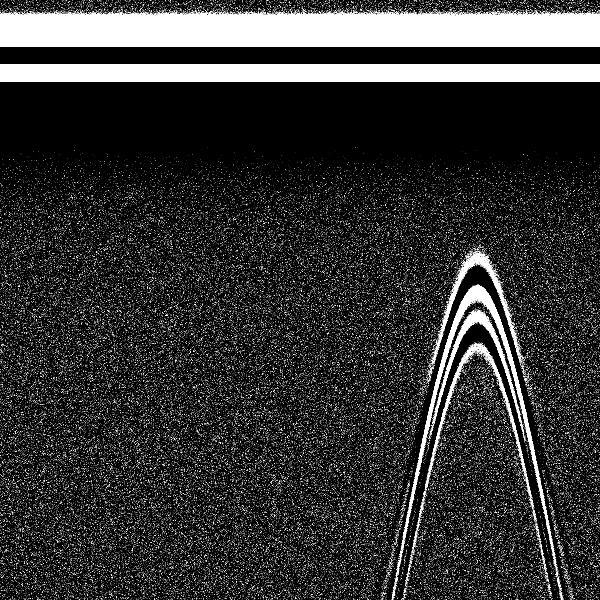pipe: (425, 5, 529, 383)
